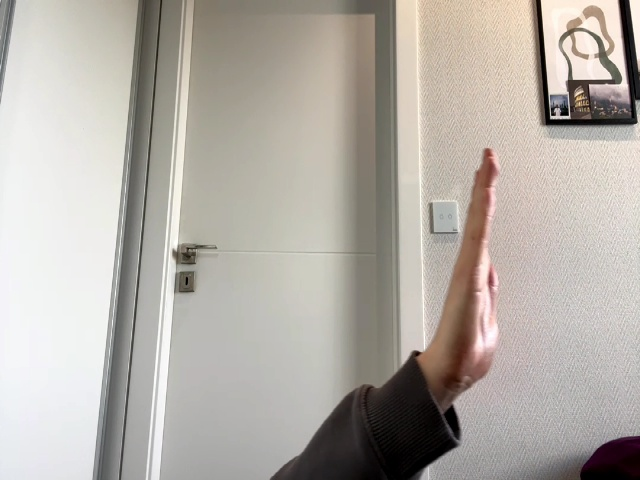SZ: (448, 149, 499, 404)
